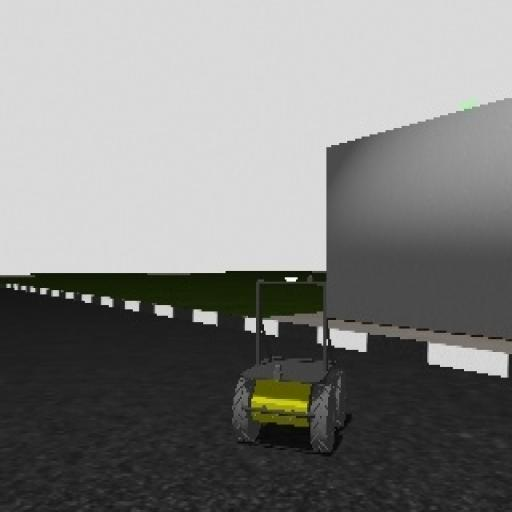huskya200: (225, 268, 373, 460)
